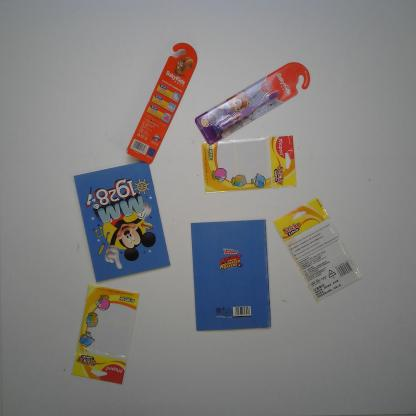Personal Hygiene: (194, 60, 312, 147), (126, 40, 200, 166)
Stationery: (73, 160, 171, 284), (272, 194, 365, 306), (189, 218, 272, 334), (70, 283, 140, 386), (200, 133, 298, 195)
